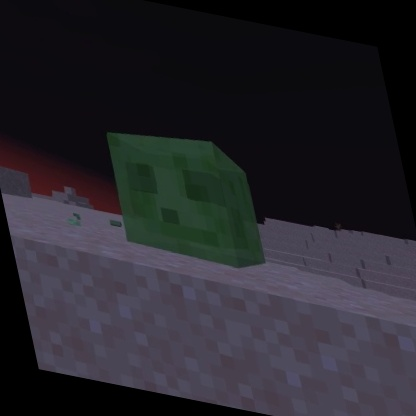slime: (95, 113, 274, 278)
